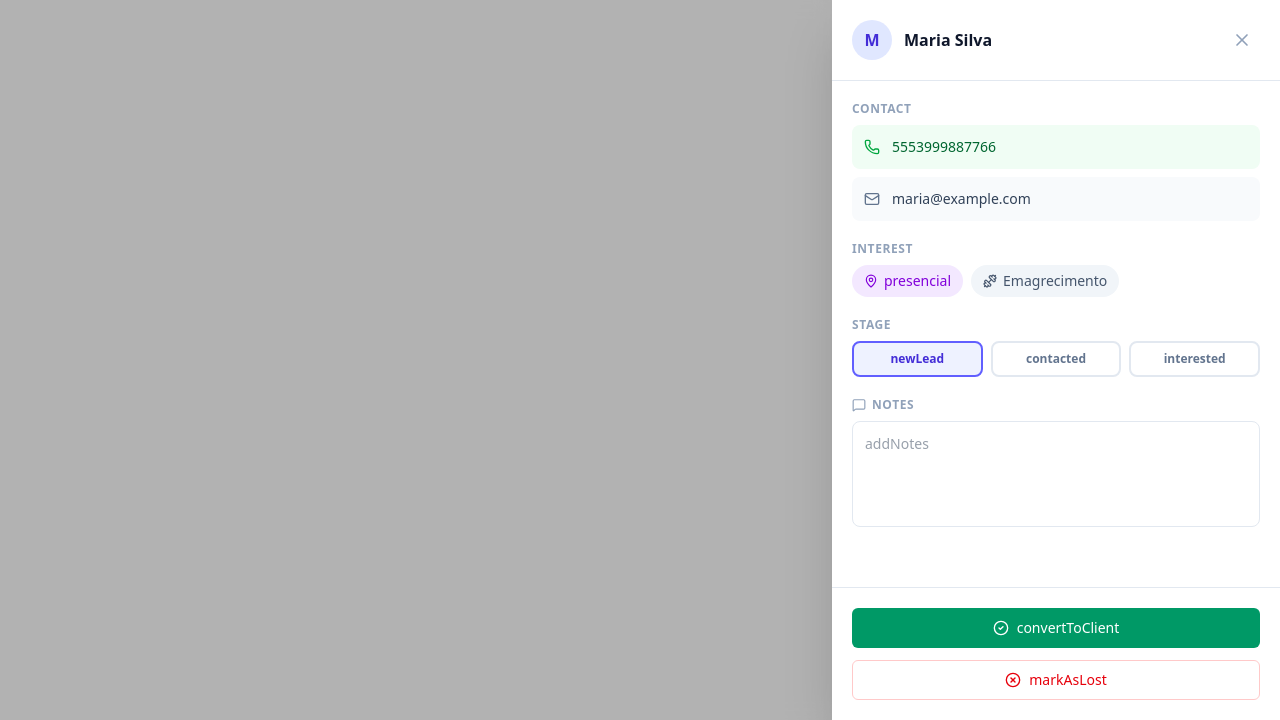
Test: LeadDrawer › convert button opens nested modal
Click the button "convertToClient": click(1056, 628) [852, 608, 1260, 648]
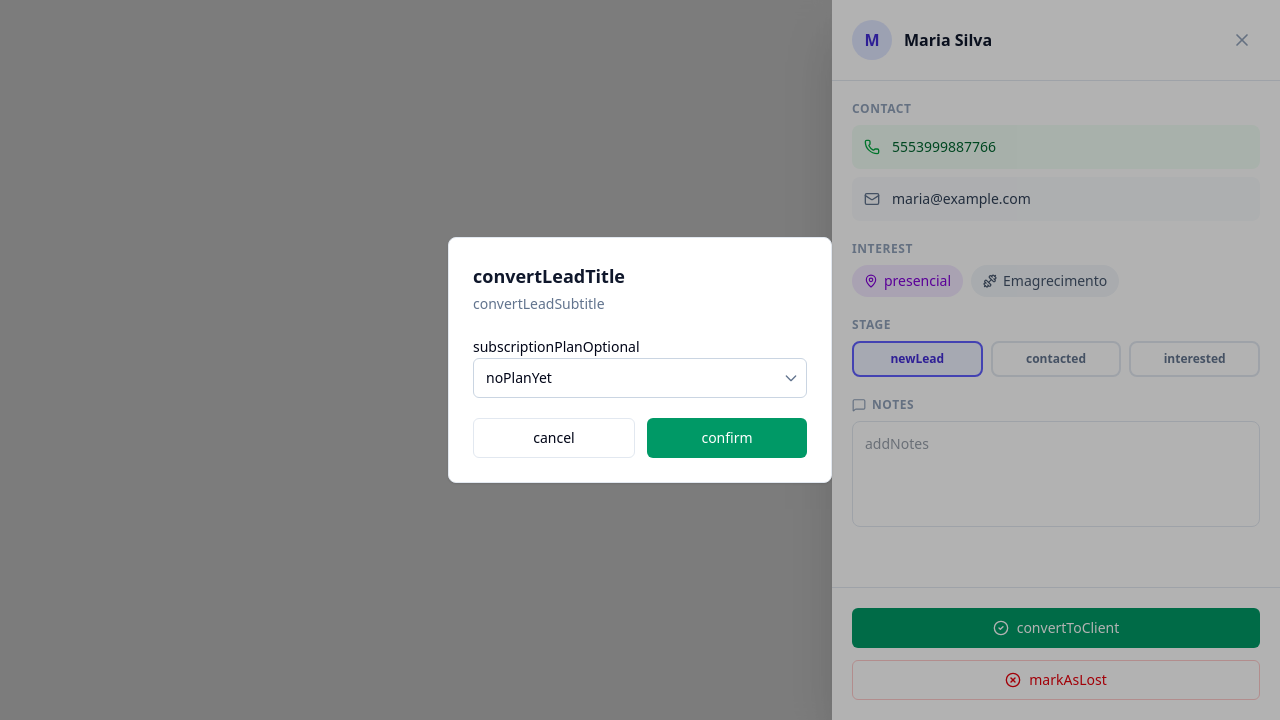
Expected: the heading "convertLeadTitle" is shown, [473, 264, 625, 288]
